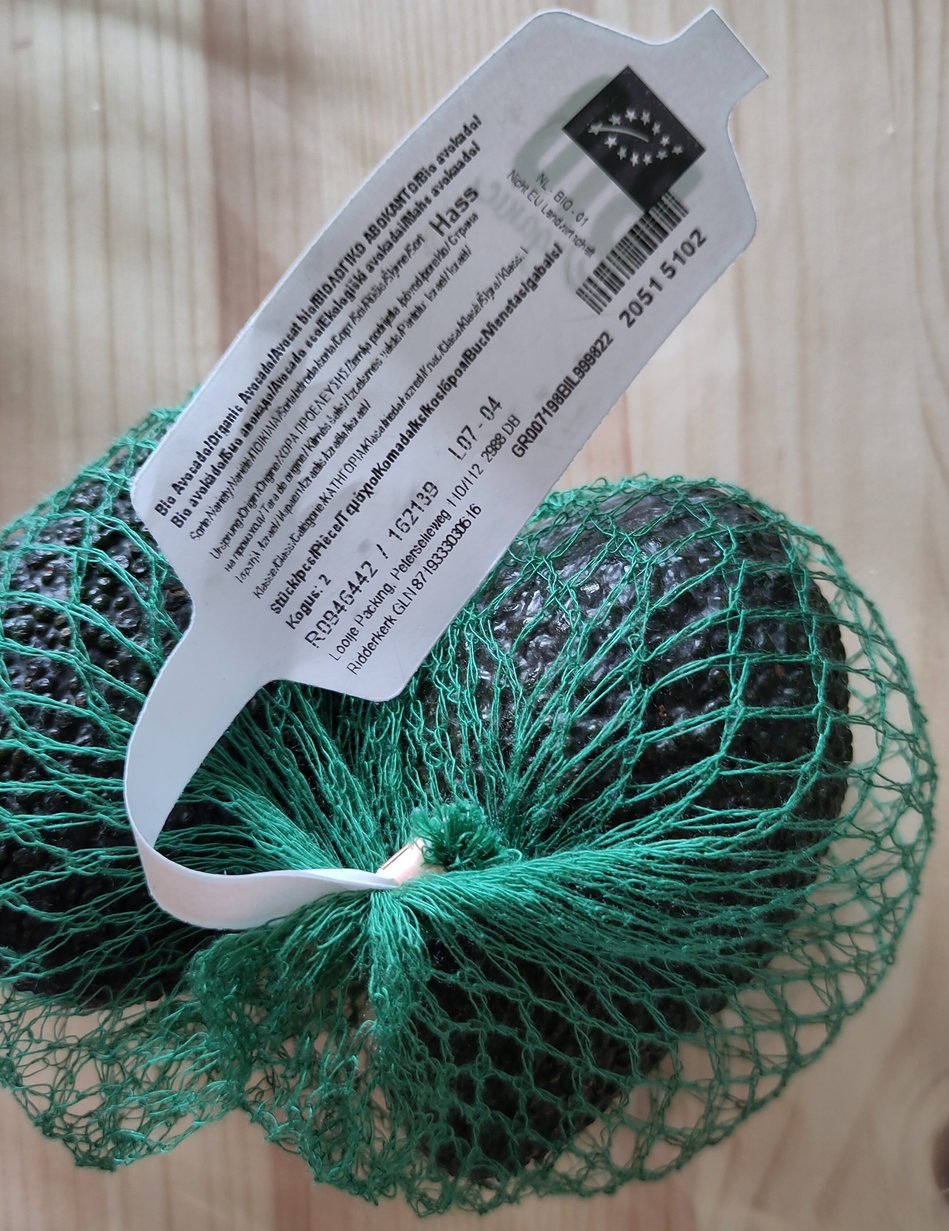bio avokado: (47, 62, 902, 1169)
